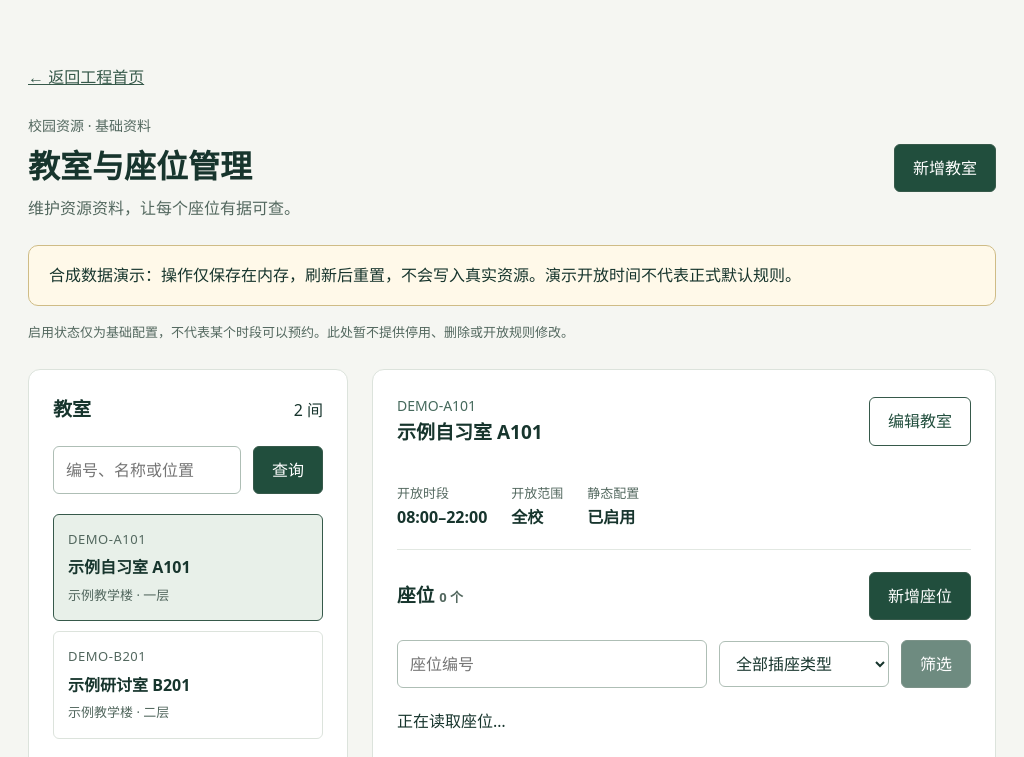
Test: B resource workspace › does not overwrite a new room's seats with a late old response
Step 1. Click the button with class "room-choice" that starts with "DEMO-B201" → (188, 685), box [53,631,323,739]
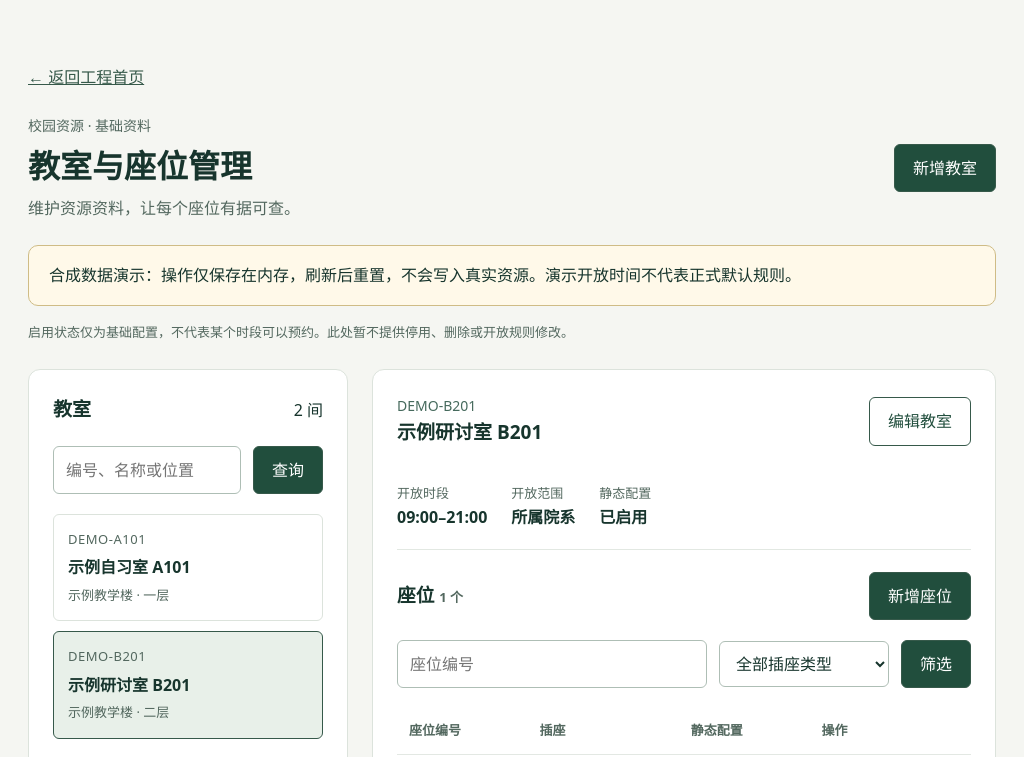
Result: the heading with id "seat-list-title" shows "B201" at [397,419,542,445]
